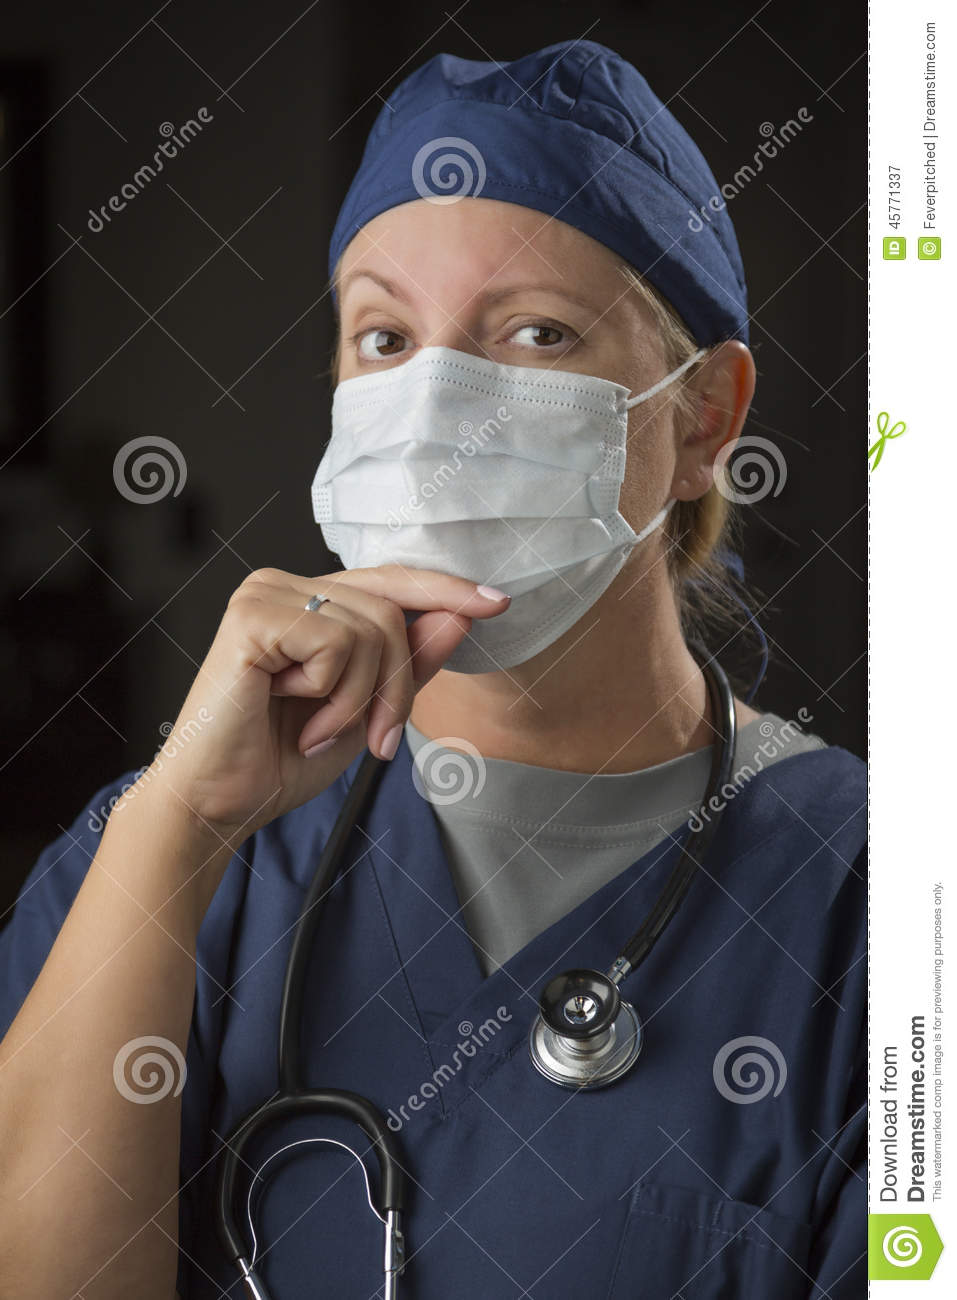mask: (294, 377, 668, 673)
